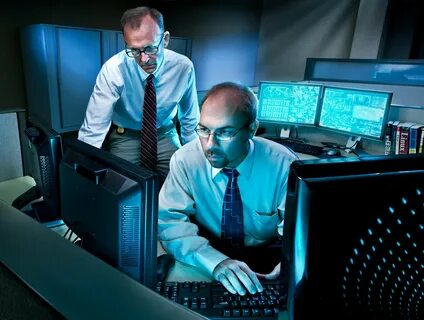awake: (157, 81, 301, 297), (78, 6, 201, 174)
